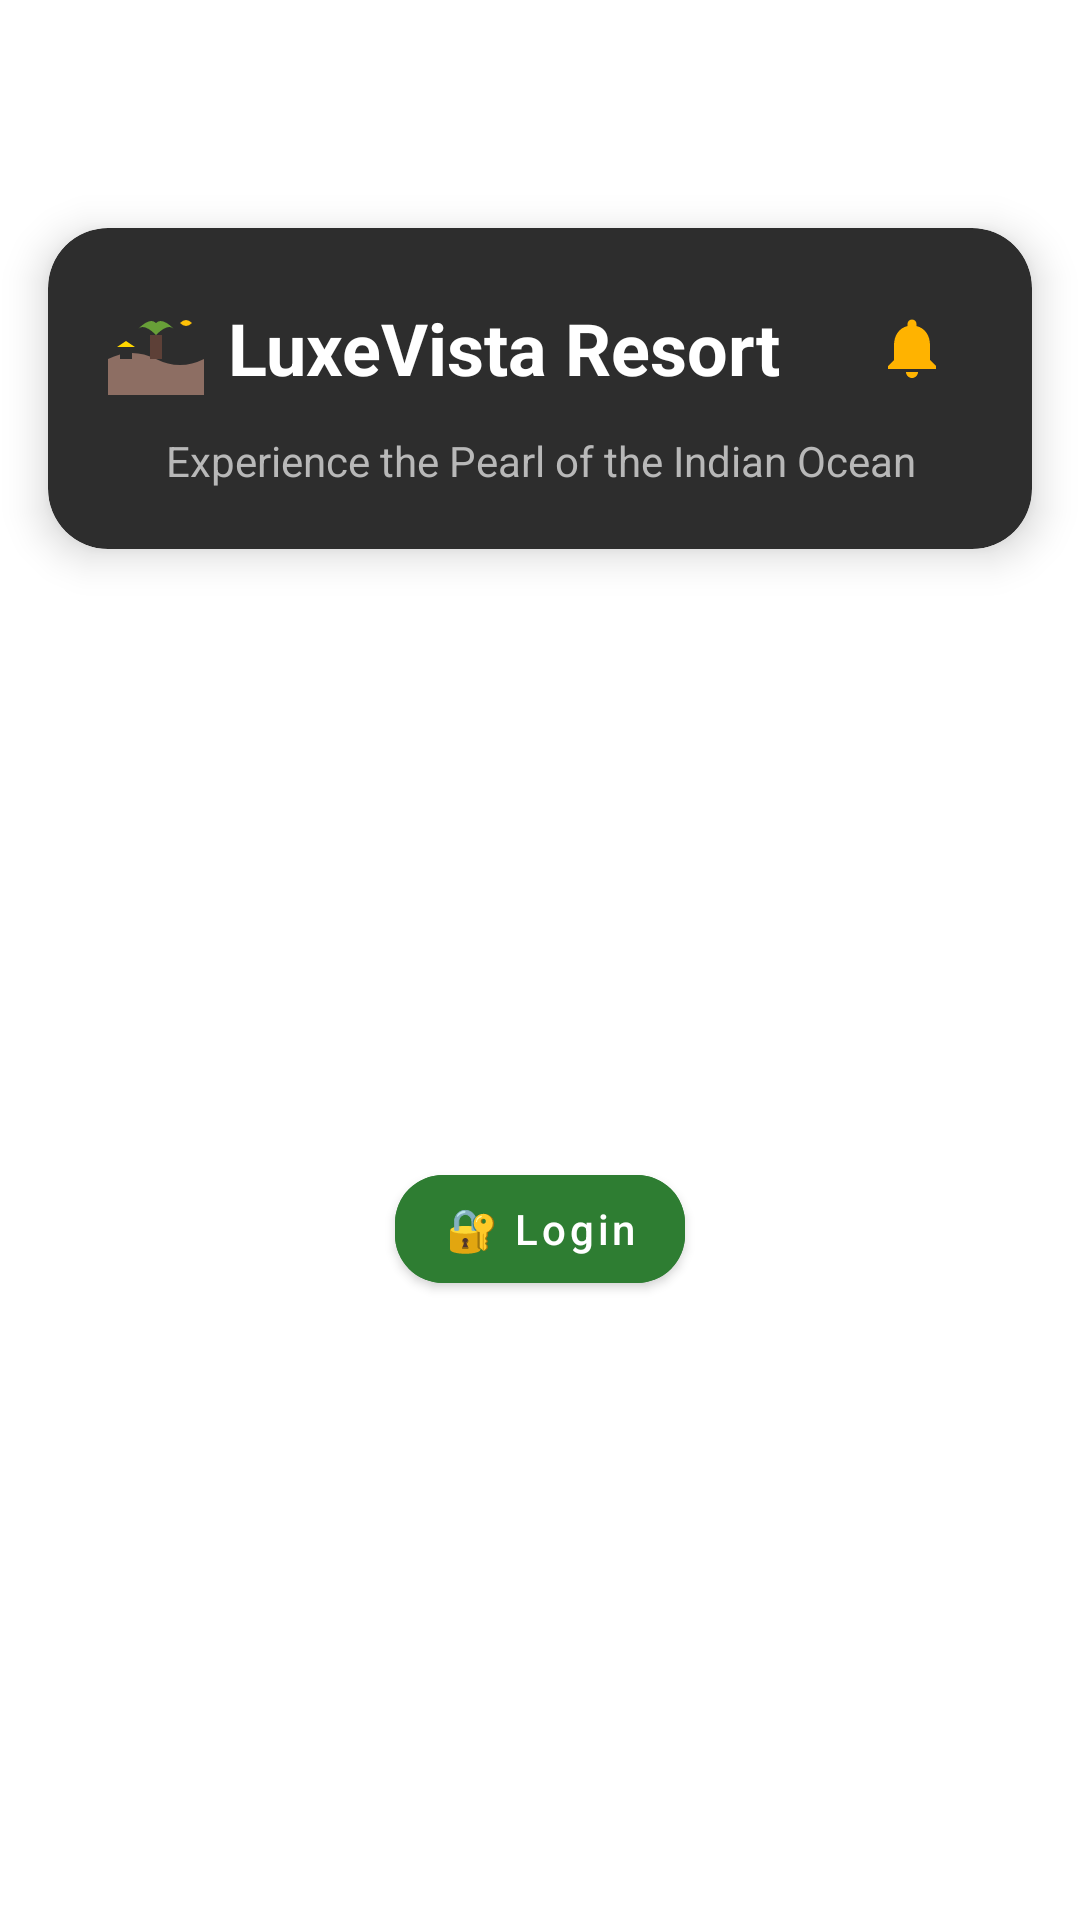

Named icons in this screenshot (1080px×1920px) and their bounding boxes, rect(x1, y1, x2, y2):
View Notifications: rect(888, 319, 936, 378)
